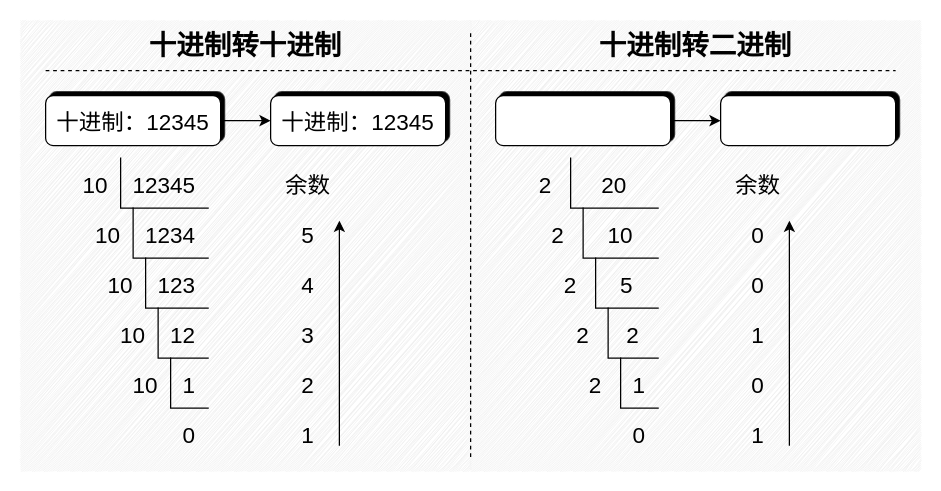
The diagram is 941 pixels wide and 491 high, and some of its shapes have lost their labels. Each missing label, with the centre of its shape:
"二进制：10100" goes at [809,118].
"十进制：20" goes at [584,118].
